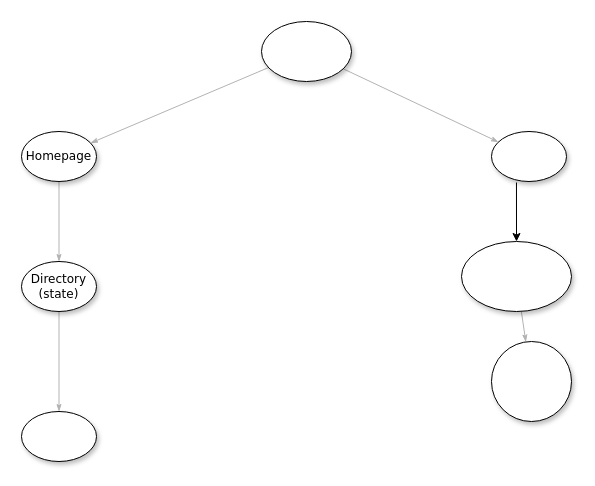
Image size: 595x486. Some labels were removed from this diagram. The centre of each missing label's shape, as x and y in pixels:
App: the point at 307,52
MenuItem: the point at 59,437
